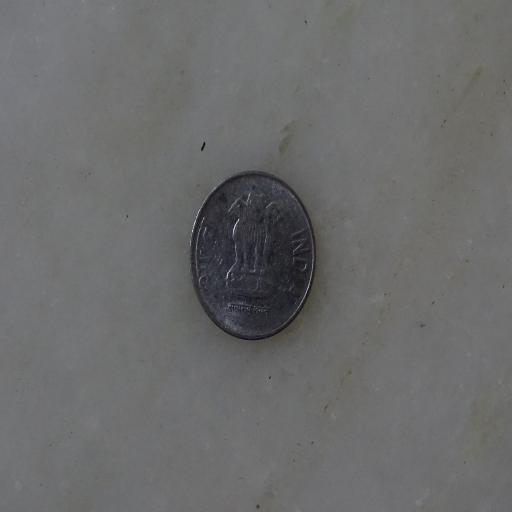rupee2: (185, 169, 318, 342)
